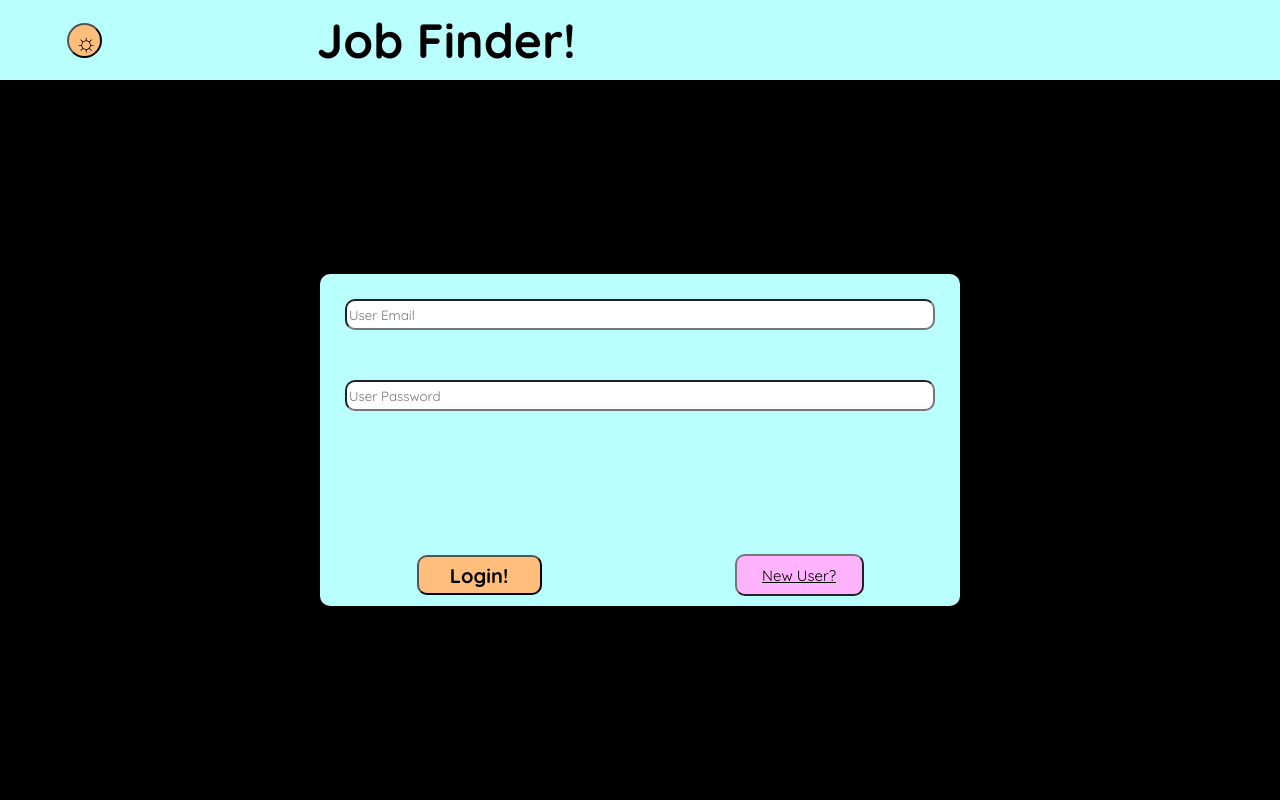
Test: Sad_path › A user should receive an error when they do not enter a password
The width and height of the screenshot is (1280, 800).
Type "testtesttest@gmail.com" into the field with test id "email".
click(640, 315); type("testtesttest@gmail.com")  # box [345, 299, 935, 330]
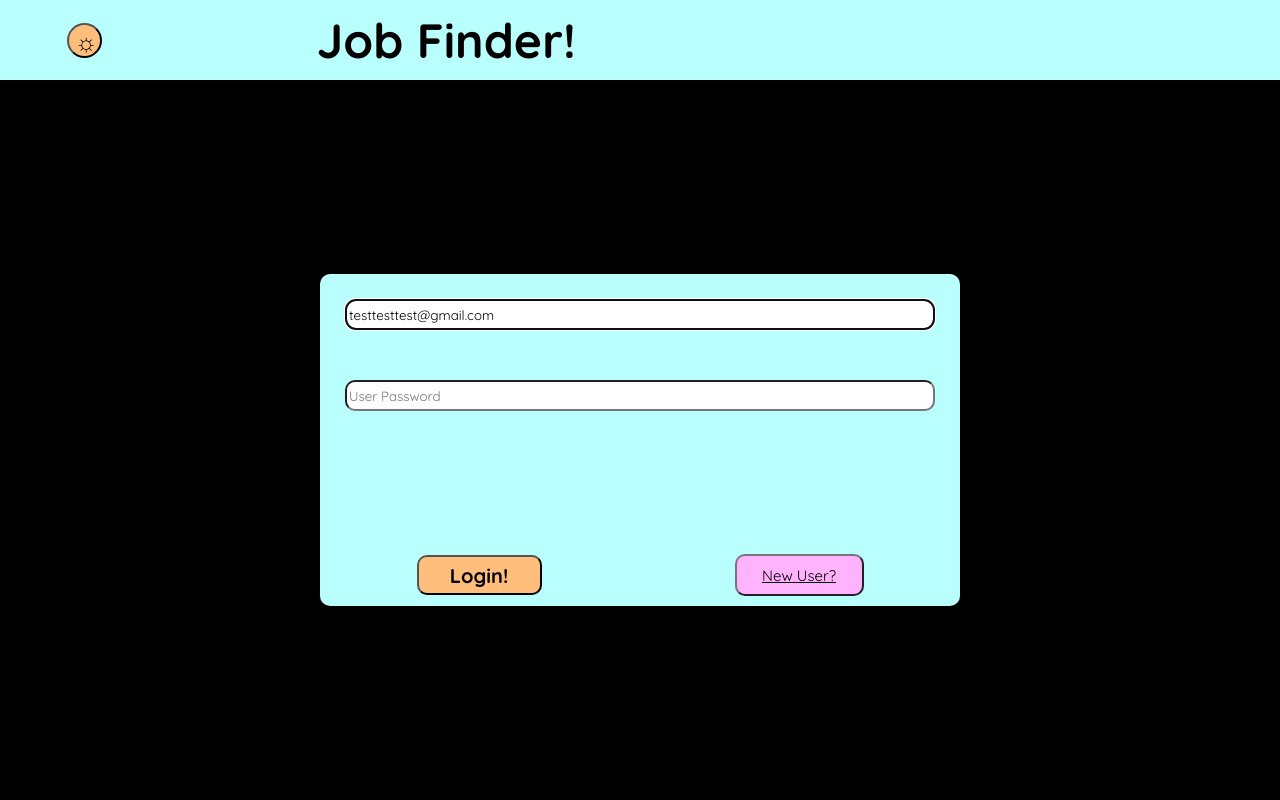
Click the button with test id "loginButton".
click(480, 575)  # box [417, 555, 542, 595]
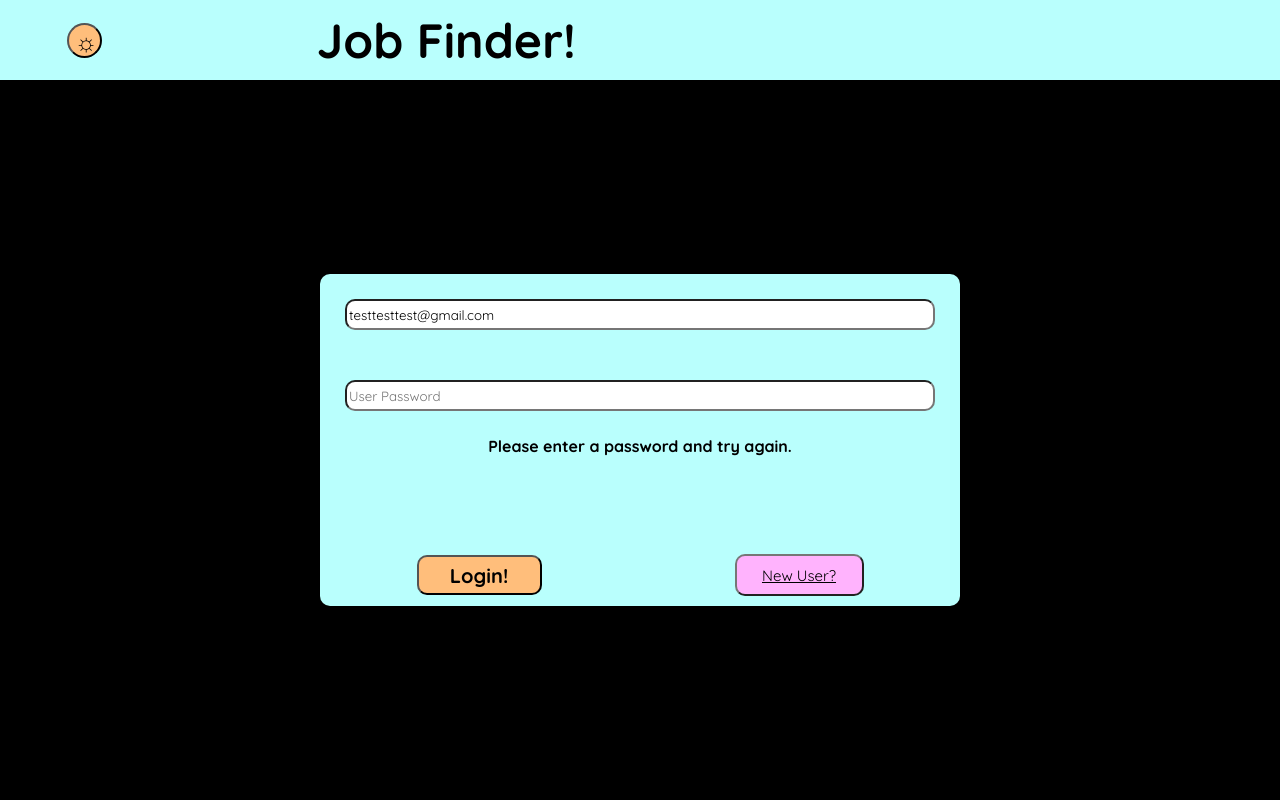
Now the text with test id "messages" reads "Please enter a password and try again.", box [488, 436, 792, 456]
